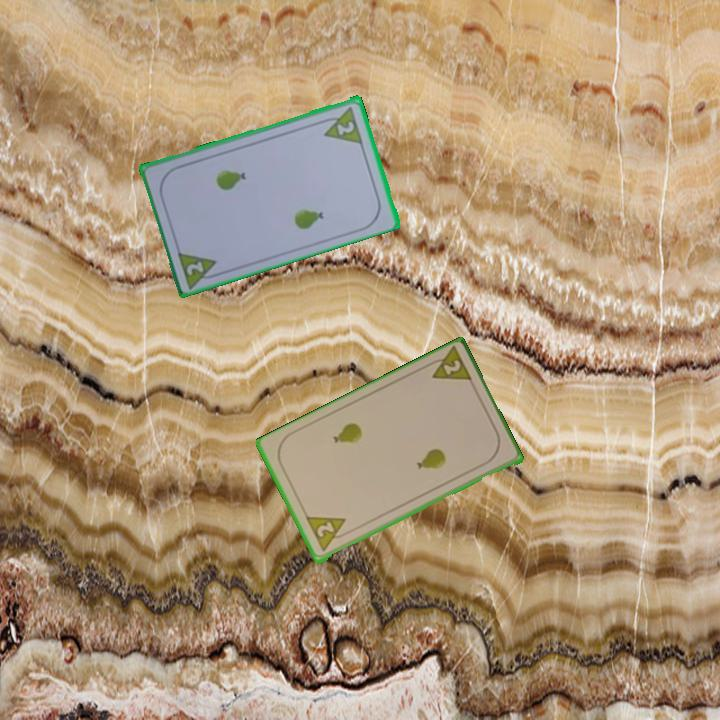2p: (422, 345, 475, 386), (317, 102, 366, 146), (174, 247, 224, 290), (303, 513, 353, 555)
